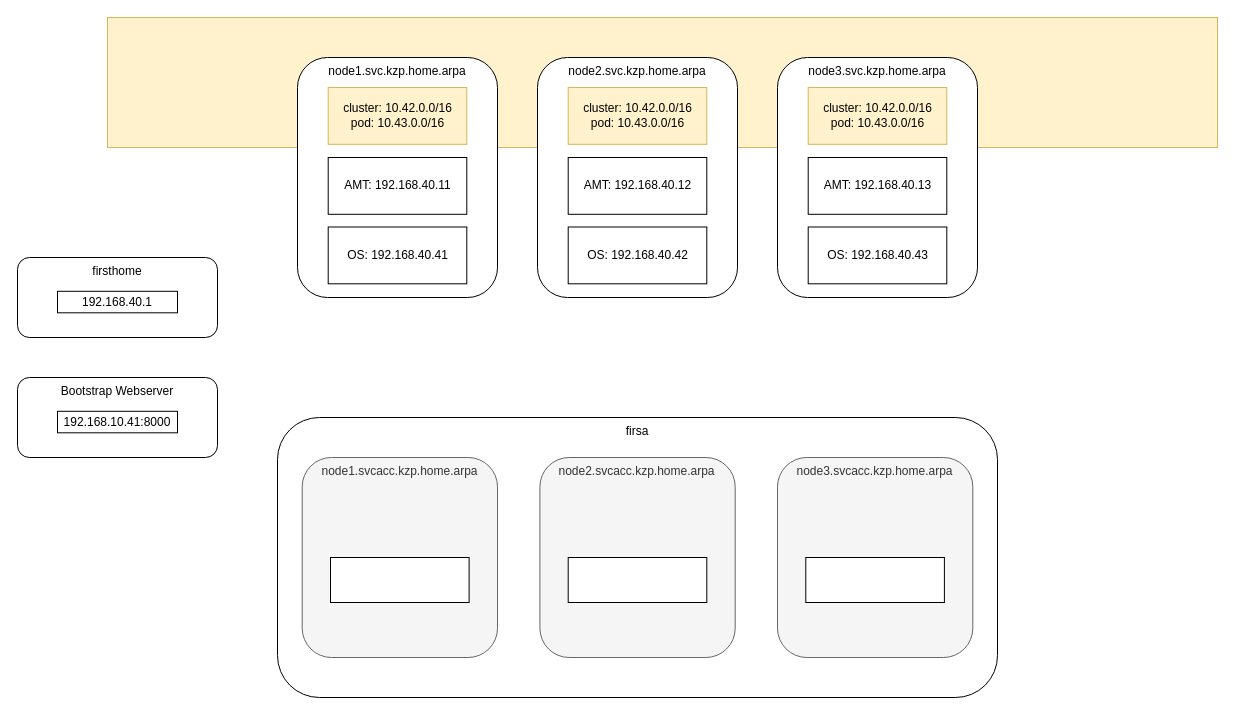
Image size: 1235x715. Some labels were removed from this diagram. Each missing label, with the centre of its shape:
OS: 192.168.110.41: pixel 399 579
OS: 192.168.110.42: pixel 637 579
OS: 192.168.110.43: pixel 874 579
